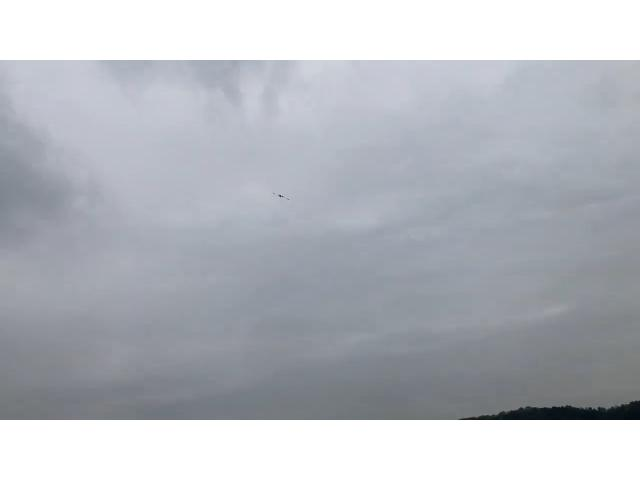Anti-Drone: (272, 193, 290, 200)
